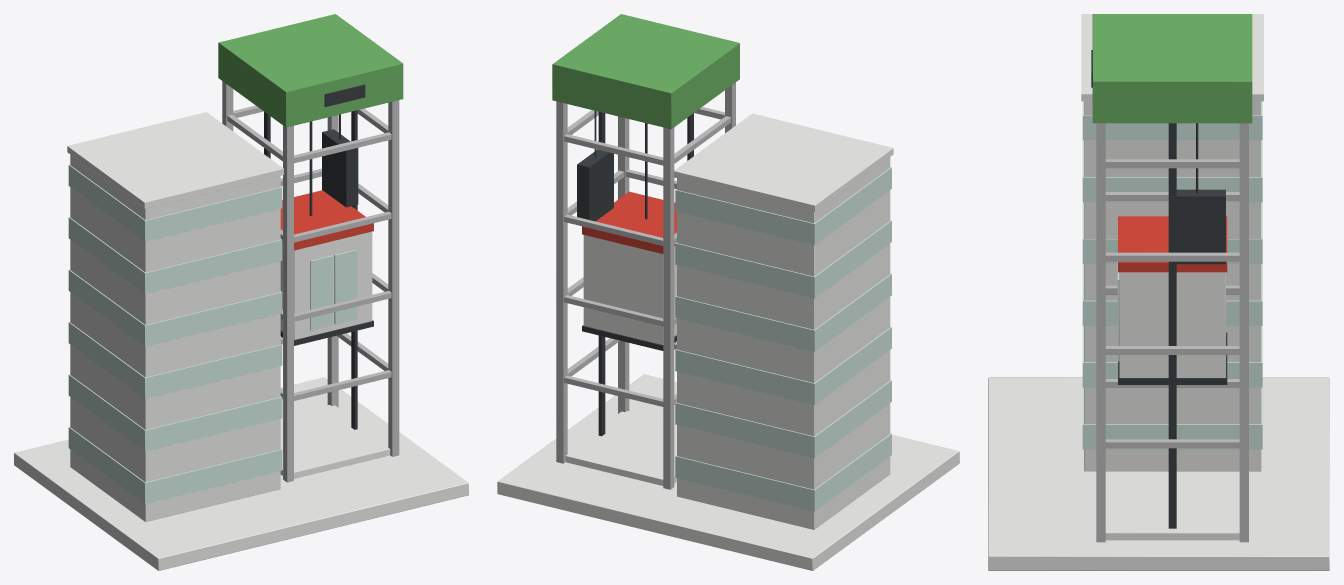
File: lift-elevator.glb
3 views of the same model, side by side, from view 1: azimuth 30°, elevation 25°; view 2: azimuth 150°, elevation 25°; view 3: azimuth 270°, elevation 25° (orthographic). The views are drawn at different scales.
Visible parts, largest first — view 1: bldg, plaza.003, machine_room, bldg_roof, pit, bldg_glass5, bldg_glass1, bldg_glass3, bldg_glass4, bldg_glass0, bldg_glass2, post1 (+14 smaller); view 2: bldg, plaza.003, machine_room, bldg_roof, cab, pit, bldg_glass3, bldg_glass0, bldg_glass2, bldg_glass4, bldg_glass1, bldg_glass5 (+11 smaller); view 3: plaza.003, bldg, machine_room, cab, pit, post1, post3, counterweight, bldg_glass0, cab_top, bldg_glass5, bldg_glass4 (+12 smaller).
Part boxes in pixels (x1,y1,x2,y2): bldg: (70,155,280,521); plaza.003: (14,377,468,570); machine_room: (218,14,403,127); bldg_roof: (67,112,283,208); pit: (280,405,390,478); bldg_glass5: (68,165,282,241); bldg_glass1: (68,374,282,451); bldg_glass3: (68,269,282,346); bldg_glass4: (68,217,282,294); bldg_glass0: (68,427,282,503); bldg_glass2: (68,322,282,398); post1: (388,100,399,456); bldg: (677,157,890,529); plaza.003: (497,374,959,570); machine_room: (552,14,739,129); bldg_roof: (673,113,893,211); cab: (583,235,676,344); pit: (565,411,676,485); bldg_glass3: (675,273,891,351); bldg_glass0: (675,433,891,511); bldg_glass2: (675,326,891,404); bldg_glass4: (675,220,891,298); bldg_glass1: (675,380,891,458); bldg_glass5: (675,167,891,245); plaza.003: (988,377,1329,570); bldg: (1084,101,1261,471); machine_room: (1092,14,1252,123); cab: (1119,272,1225,377); pit: (1105,472,1239,540); post1: (1096,123,1105,542); post3: (1239,123,1248,542); counterweight: (1168,189,1225,264); bldg_glass0: (1082,387,1262,449); cab_top: (1118,216,1227,272); bldg_glass5: (1082,101,1262,140); bldg_glass4: (1082,140,1262,202).
Bounding box in the file's own units: 3.1 × 3.86 × 2.5.
